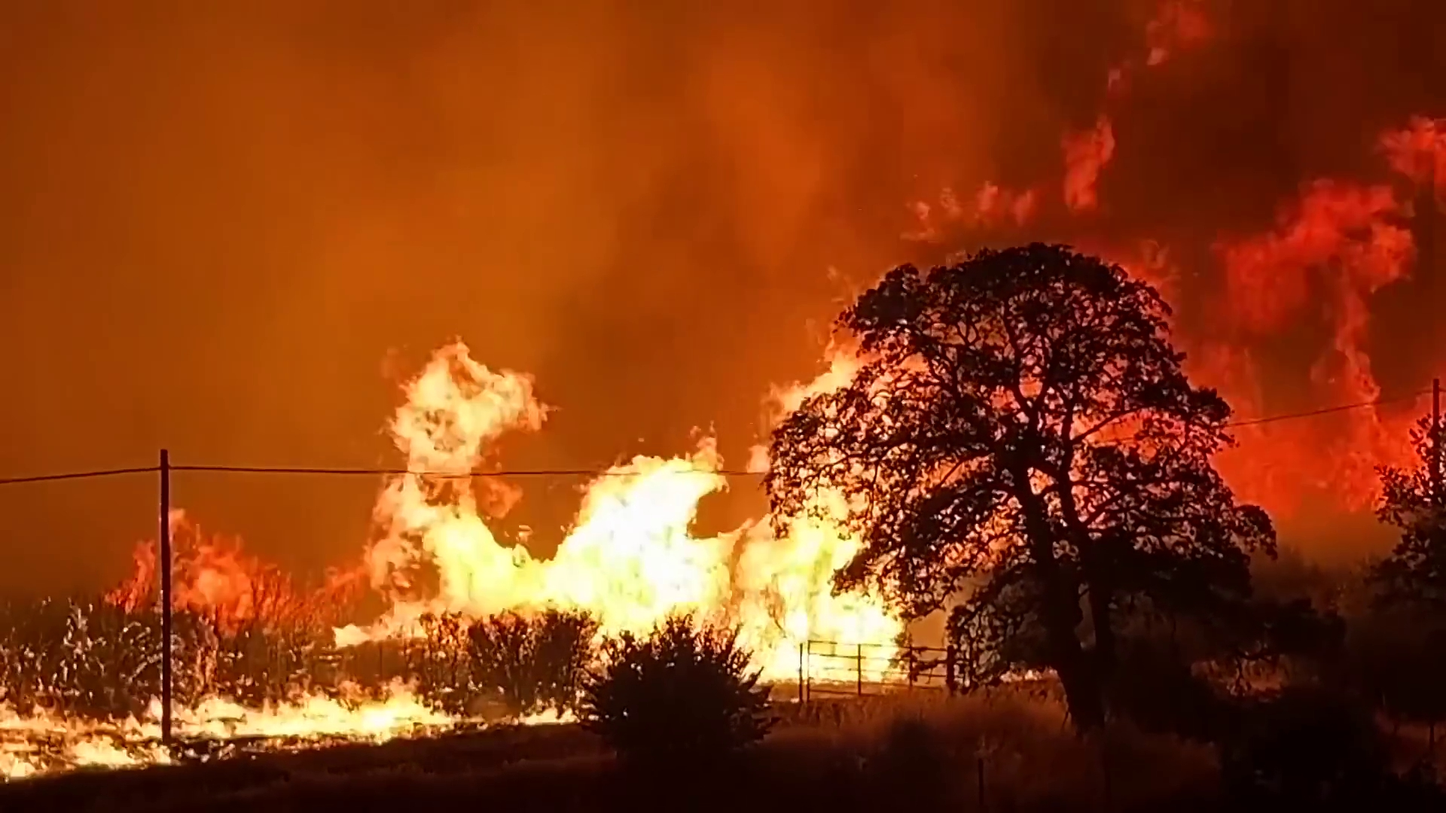forest_fire: (171, 340, 907, 740), (1175, 117, 1445, 513), (906, 106, 1189, 300), (0, 697, 169, 777), (1105, 0, 1213, 105), (768, 343, 859, 420), (103, 542, 157, 641), (56, 608, 98, 634), (524, 717, 554, 721), (136, 662, 153, 669), (256, 692, 263, 696), (377, 647, 383, 651), (122, 644, 128, 647), (379, 654, 383, 656), (267, 649, 271, 651), (34, 660, 37, 662), (197, 632, 199, 635), (142, 658, 143, 659), (268, 655, 269, 656), (102, 611, 102, 614)
